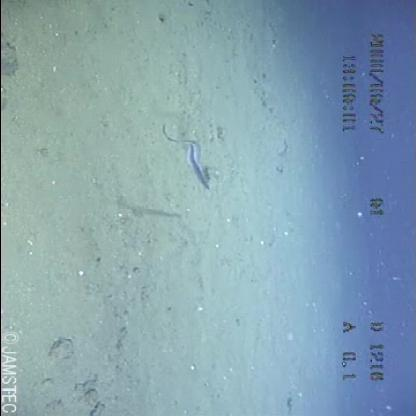Bio: (157, 122, 216, 193)
